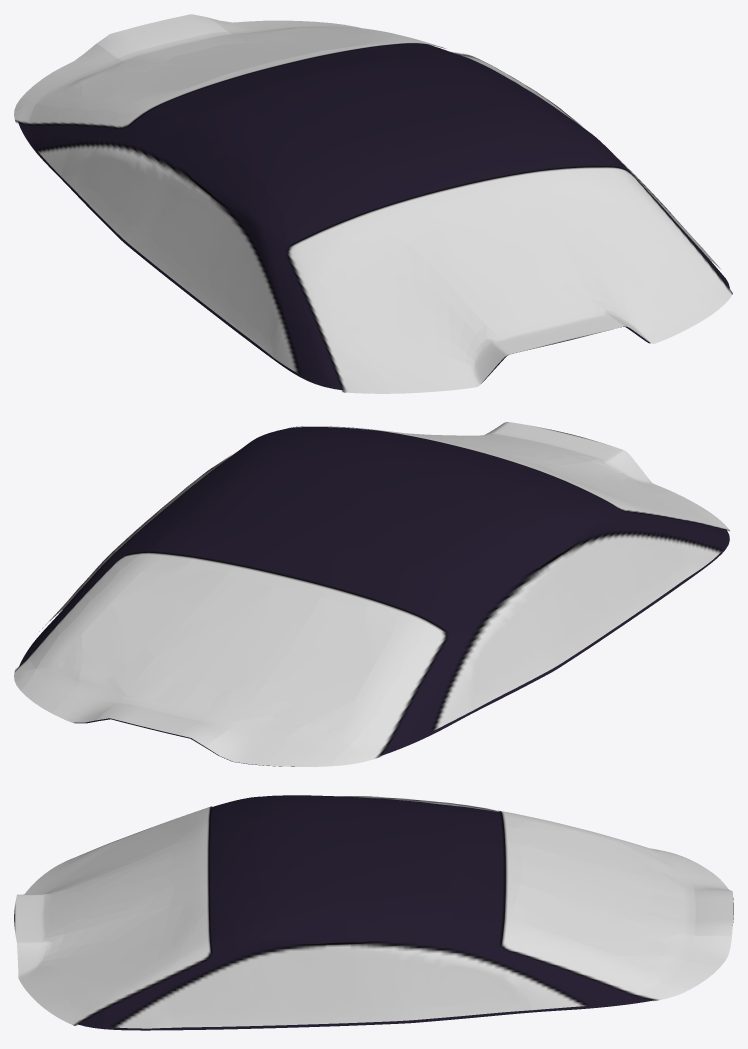
Rendered from car3.glb.
3 views of the same model, one above another, from view 1: azimuth 30°, elevation 25°; view 2: azimuth 150°, elevation 25°; view 3: azimuth 270°, elevation 25° (orthographic). The views are drawn at different scales.
Size of the model in its own units: 0.1678 by 0.043 by 0.2783.
3 materials, 2 textured.
